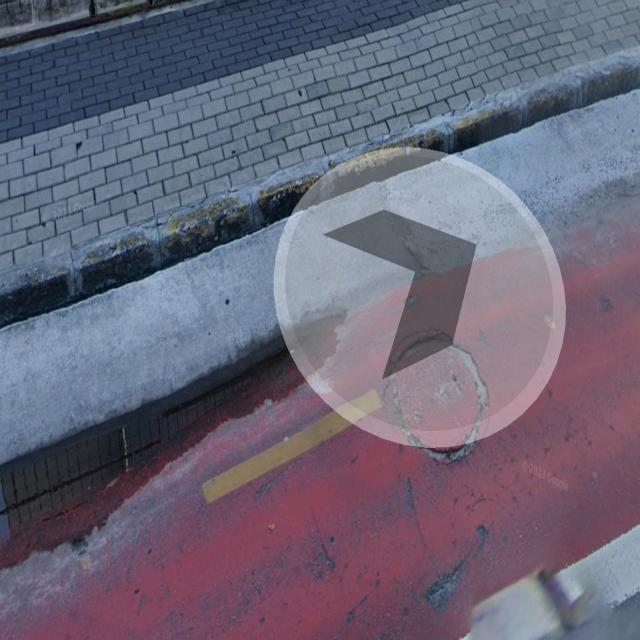Bueiro: (380, 316, 515, 486)
Buraco: (404, 532, 503, 631)
